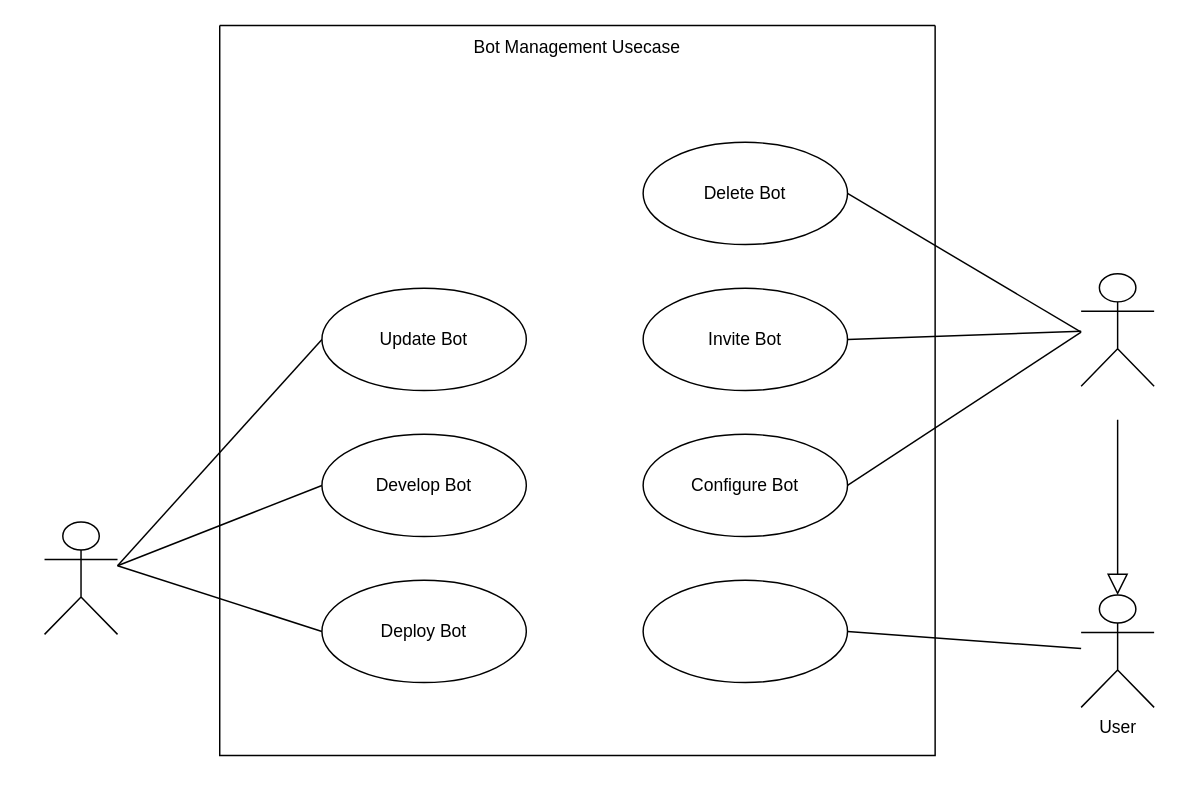
The diagram is 1183 pixels wide and 785 high, and some of its shapes have lost their labels. The centre of each missing label's shape, as x and y in pixels:
Bot Developer: (80,577)
Moderator: (1117,329)
Send command to Bot: (745,631)
